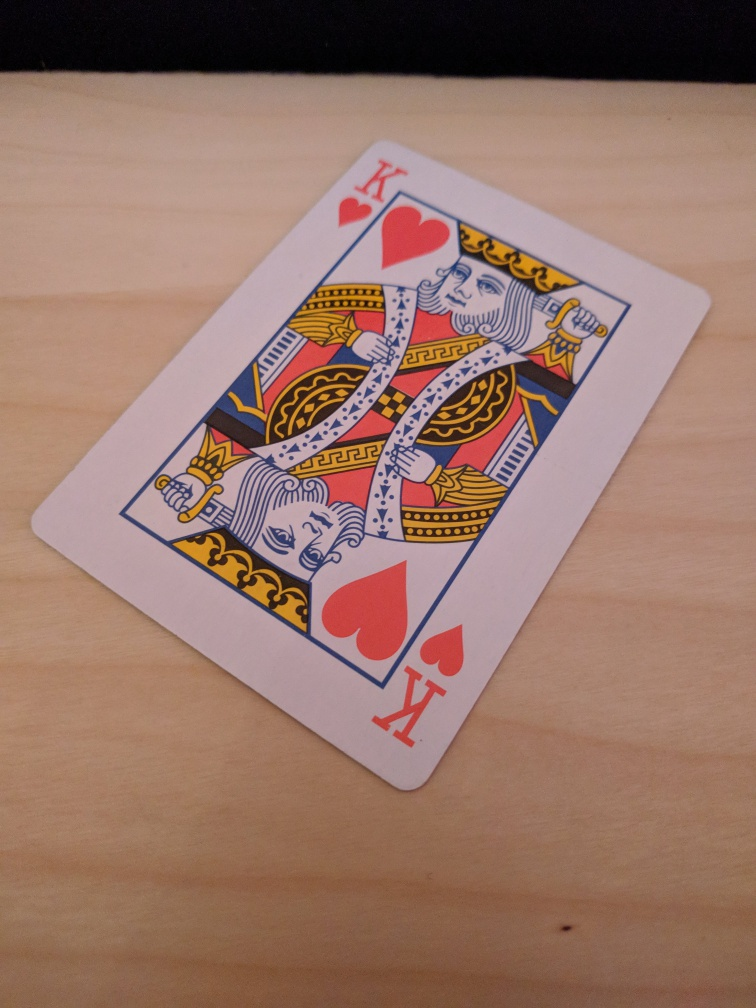king: (30, 139, 712, 793)
